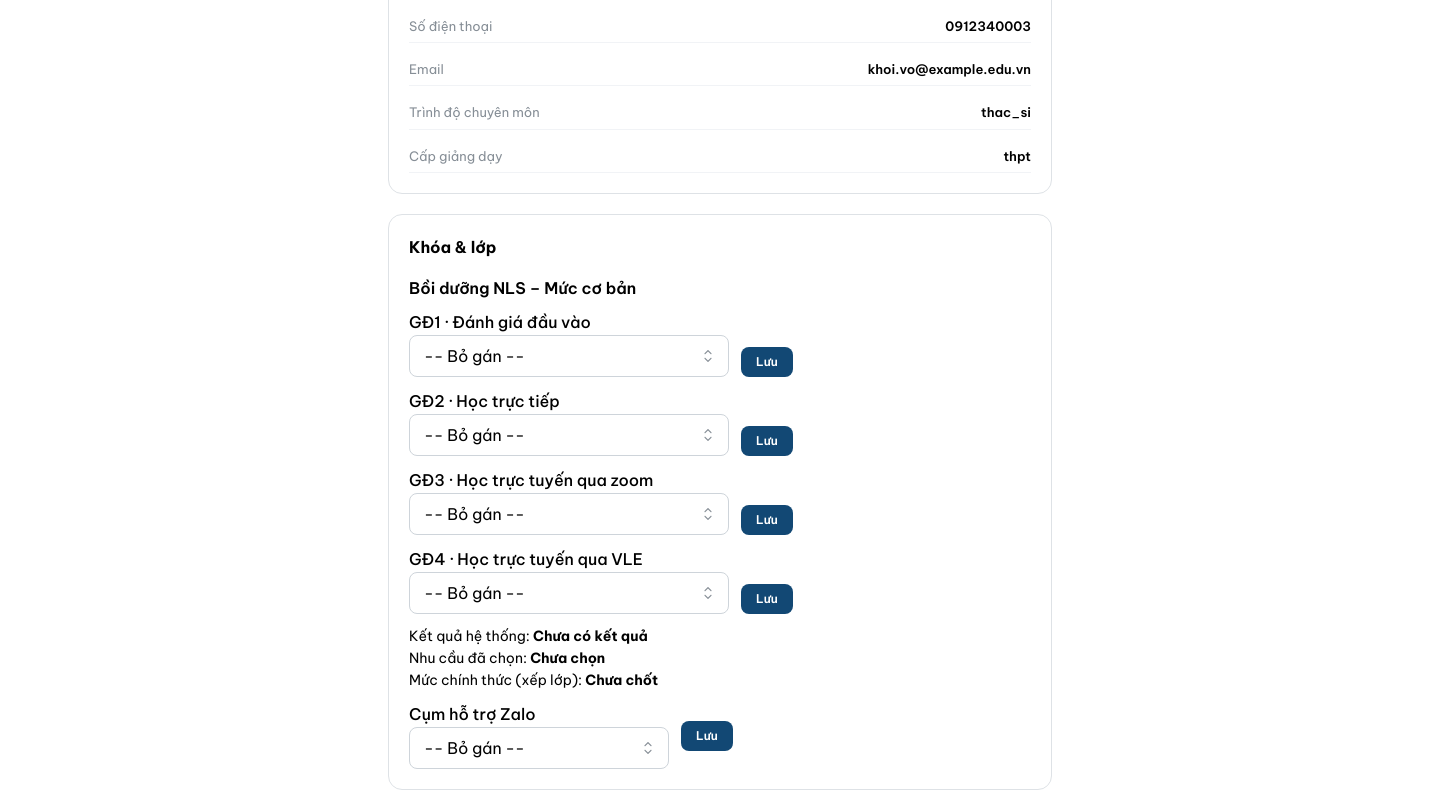
Scenario: Admin — Chi tiết hồ sơ học viên — Khóa & lớp (QĐ10) › chọn lớp cho GĐ2 rồi bấm Lưu -> gọi PUT /dang-ky-hoc/{id}/giai-doan/{gd}/lop, hiện thông báo thành công
(page scrolled)
expect the text "Bồi dưỡng NLS – Mức cơ bản" is shown: met, box [409,278,636,298]
Click the field labelled "GĐ2 · Học trực tiếp" at [569, 435], box [409,414,729,456]
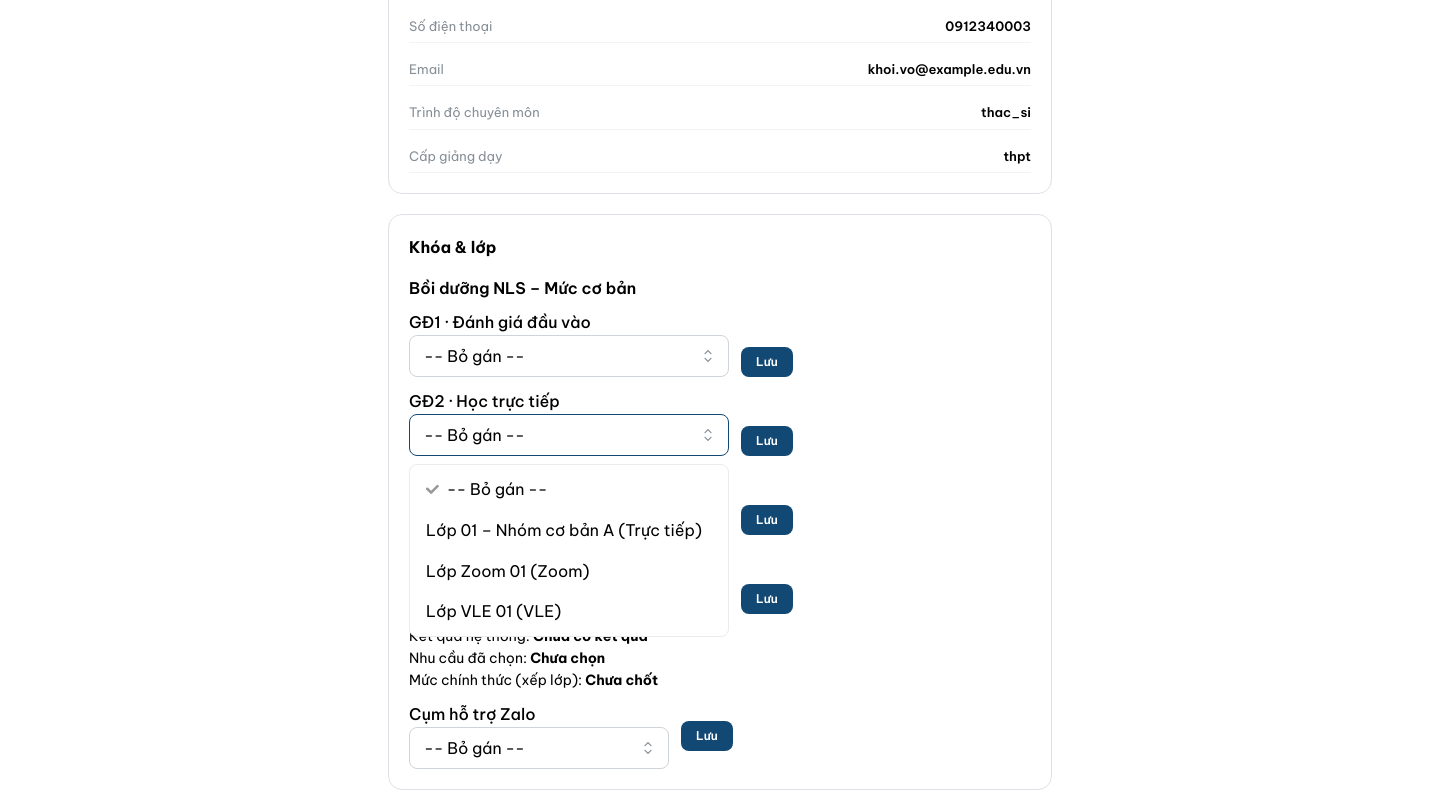
Click the option "Lớp 01 – Nhóm cơ bản A (Trực tiếp)" at [564, 530], box [426,520,702,540]
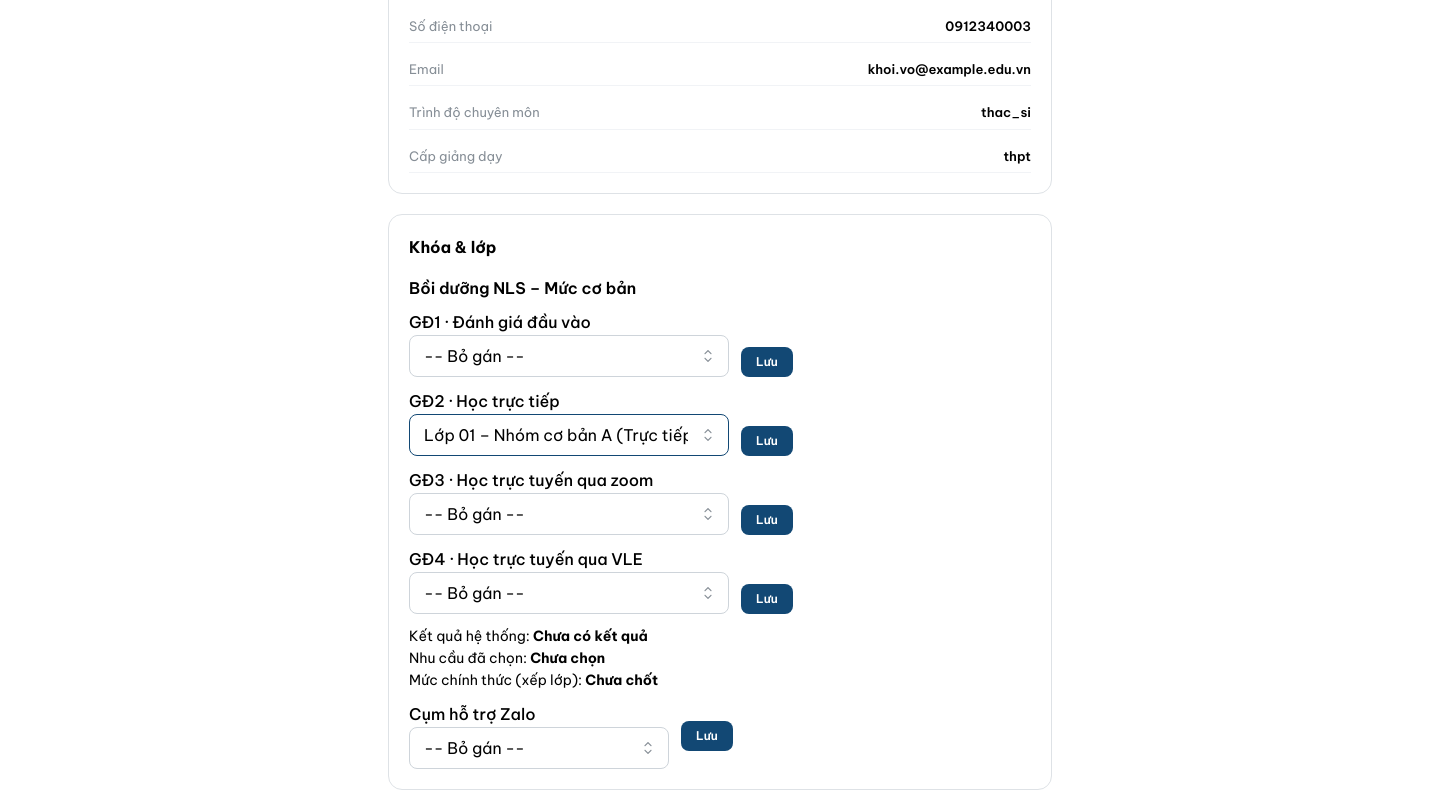
Click the button "Lưu" below "GĐ2 · Học trực tiếp" at [767, 441], box [741,426,793,456]
(page scrolled)
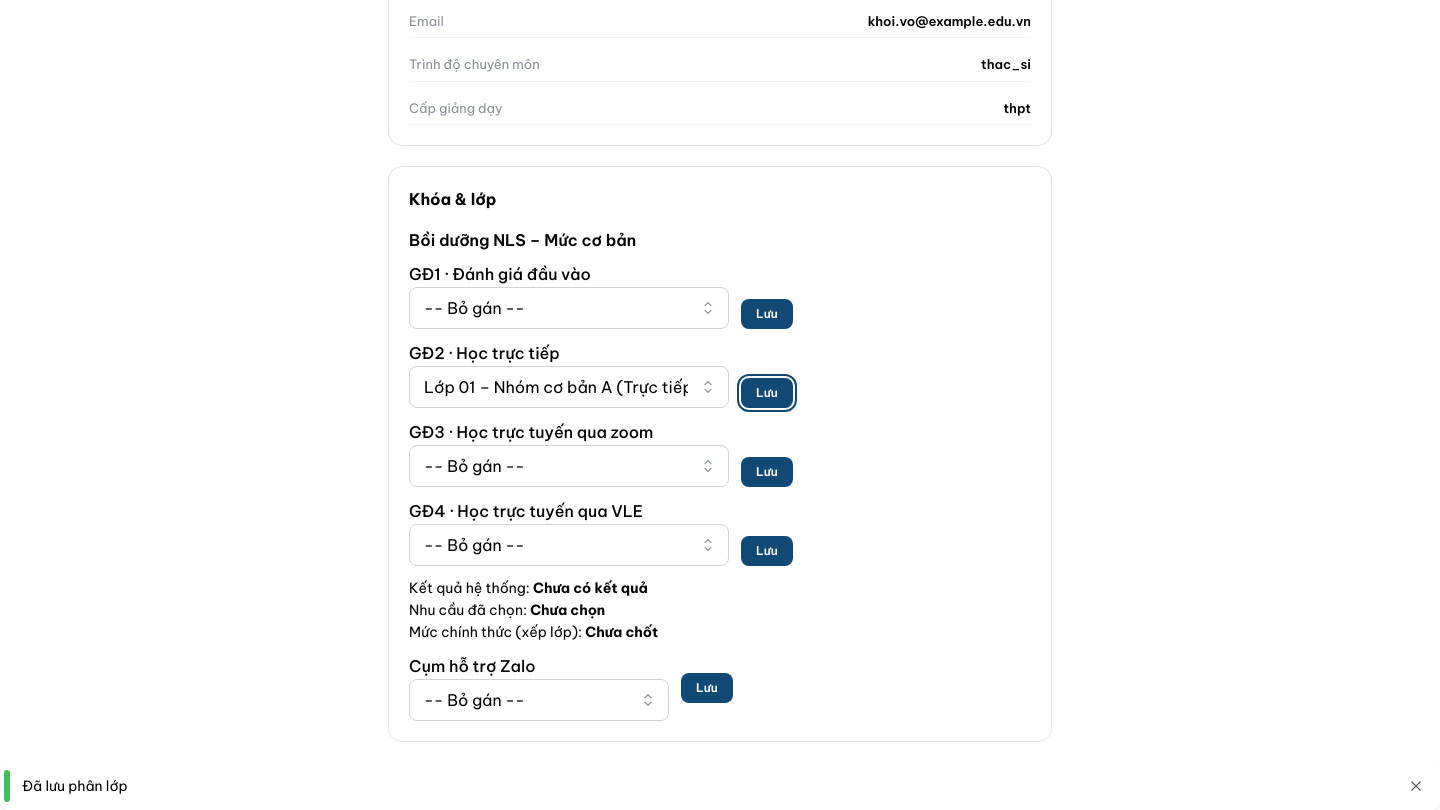
expect the text "Đã lưu phân lớp" is shown: met, box [22,777,128,795]
